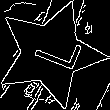L_W: (20, 30, 81, 78)
